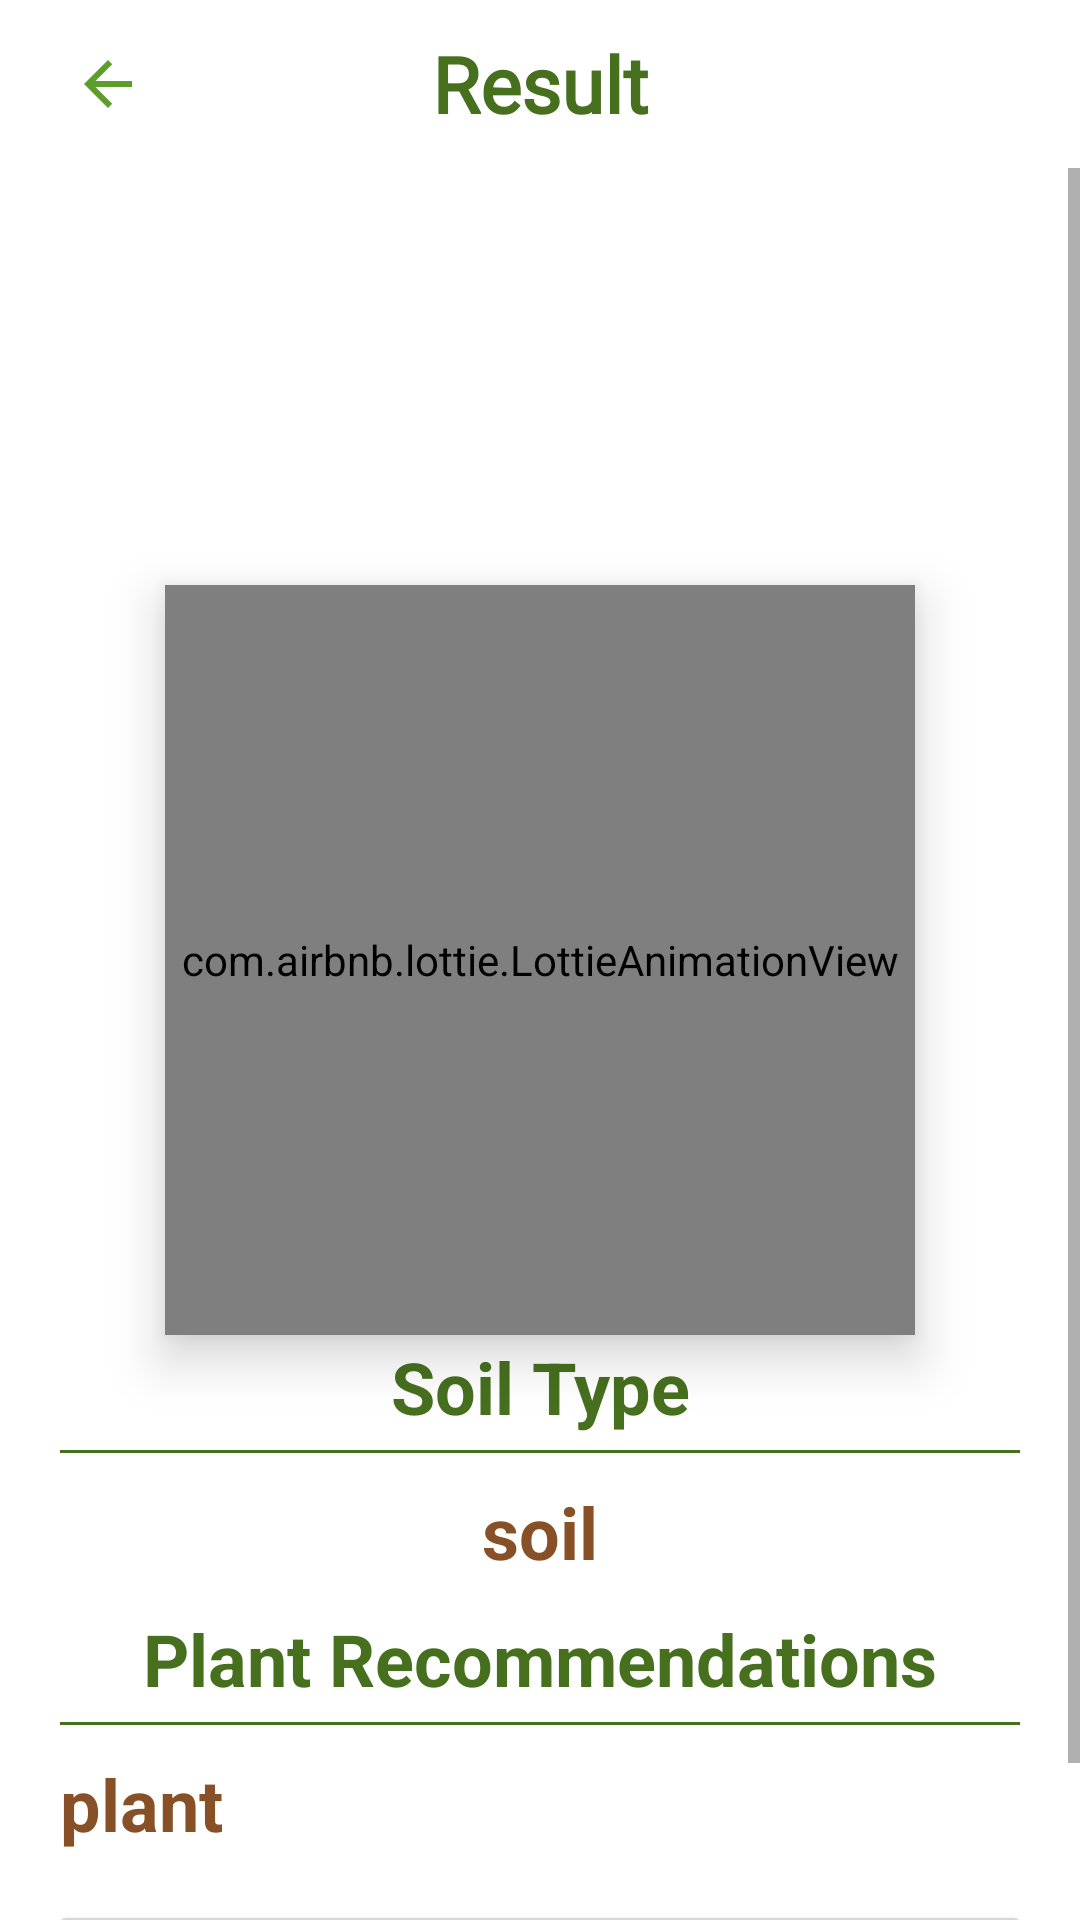

Icons on this 1080×1920 Android screen, each with the point to tap as (x,y):
Back: (108,84)
